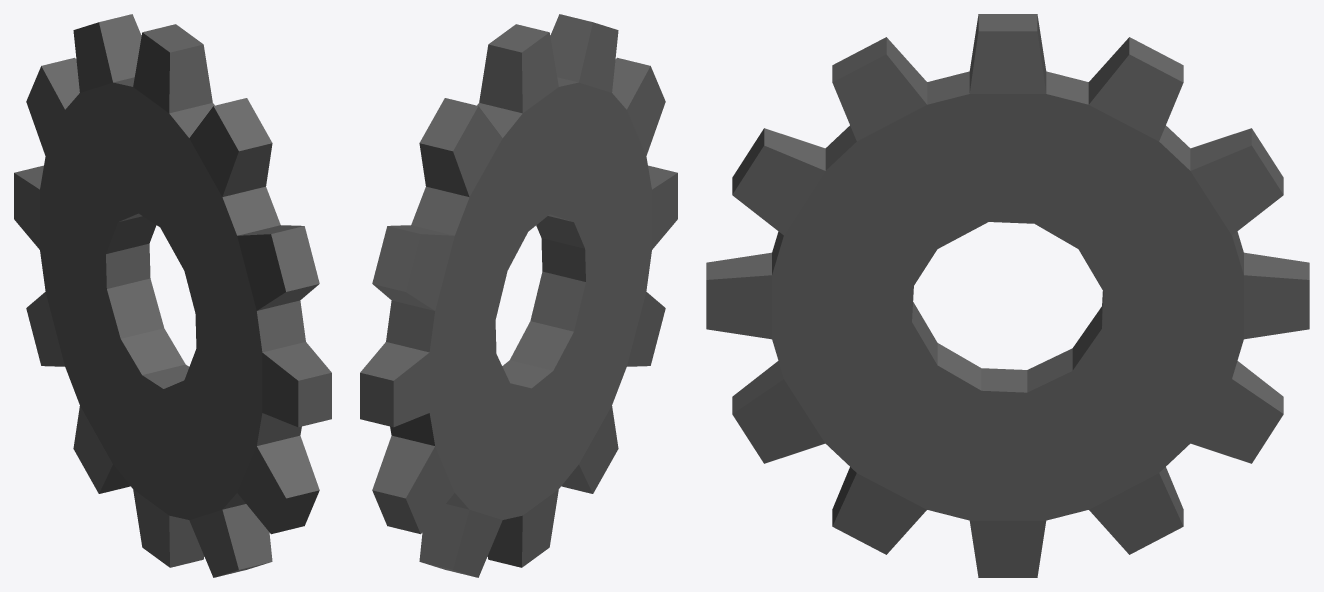
The model's file is Gear1.fbx.
The picture shows the model from 3 angles, left to right: view 1: azimuth 30°, elevation 25°; view 2: azimuth 150°, elevation 25°; view 3: azimuth 270°, elevation 25°; orthographic projection. The views are drawn at different scales.
Parts seen in each view (by area): view 1: INSANO 2.009; view 2: INSANO 2.009; view 3: INSANO 2.009.
Part boxes in pixels (<box>): INSANO 2.009: <box>14,14,331,577</box>; INSANO 2.009: <box>360,14,677,577</box>; INSANO 2.009: <box>706,14,1309,577</box>.
Size of the model in its own units: 14.22 by 160 by 160.
1 material, 1 textured.
